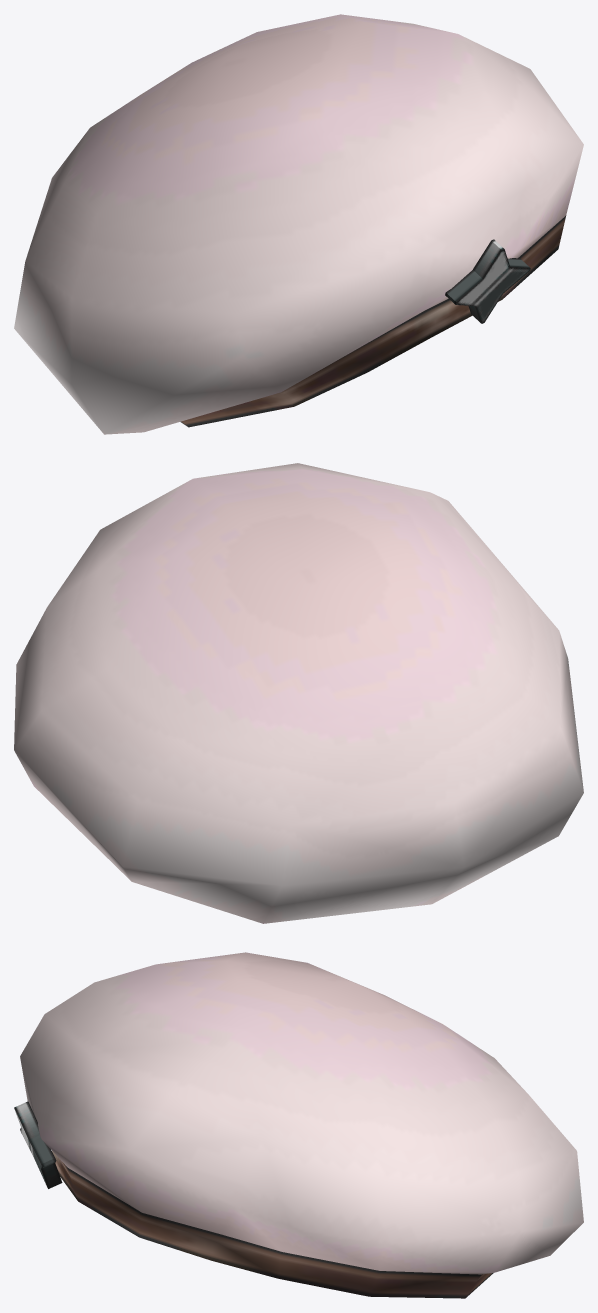
Rendered from helm3018.fbx.
3 renders of one model, top to bottom at view 1: azimuth 30°, elevation 25°; view 2: azimuth 150°, elevation 25°; view 3: azimuth 270°, elevation 25°, orthographic. The views are drawn at different scales.
Parts seen in each view (by area): view 1: hlem3018; view 2: hlem3018; view 3: hlem3018.
Boxes of the visible parts, x1=… form: hlem3018: x1=14, y1=14, x2=583, y2=434; hlem3018: x1=14, y1=463, x2=583, y2=923; hlem3018: x1=14, y1=952, x2=583, y2=1298.
Size of the model in its own units: 0.2105 by 0.1294 by 0.2143.
